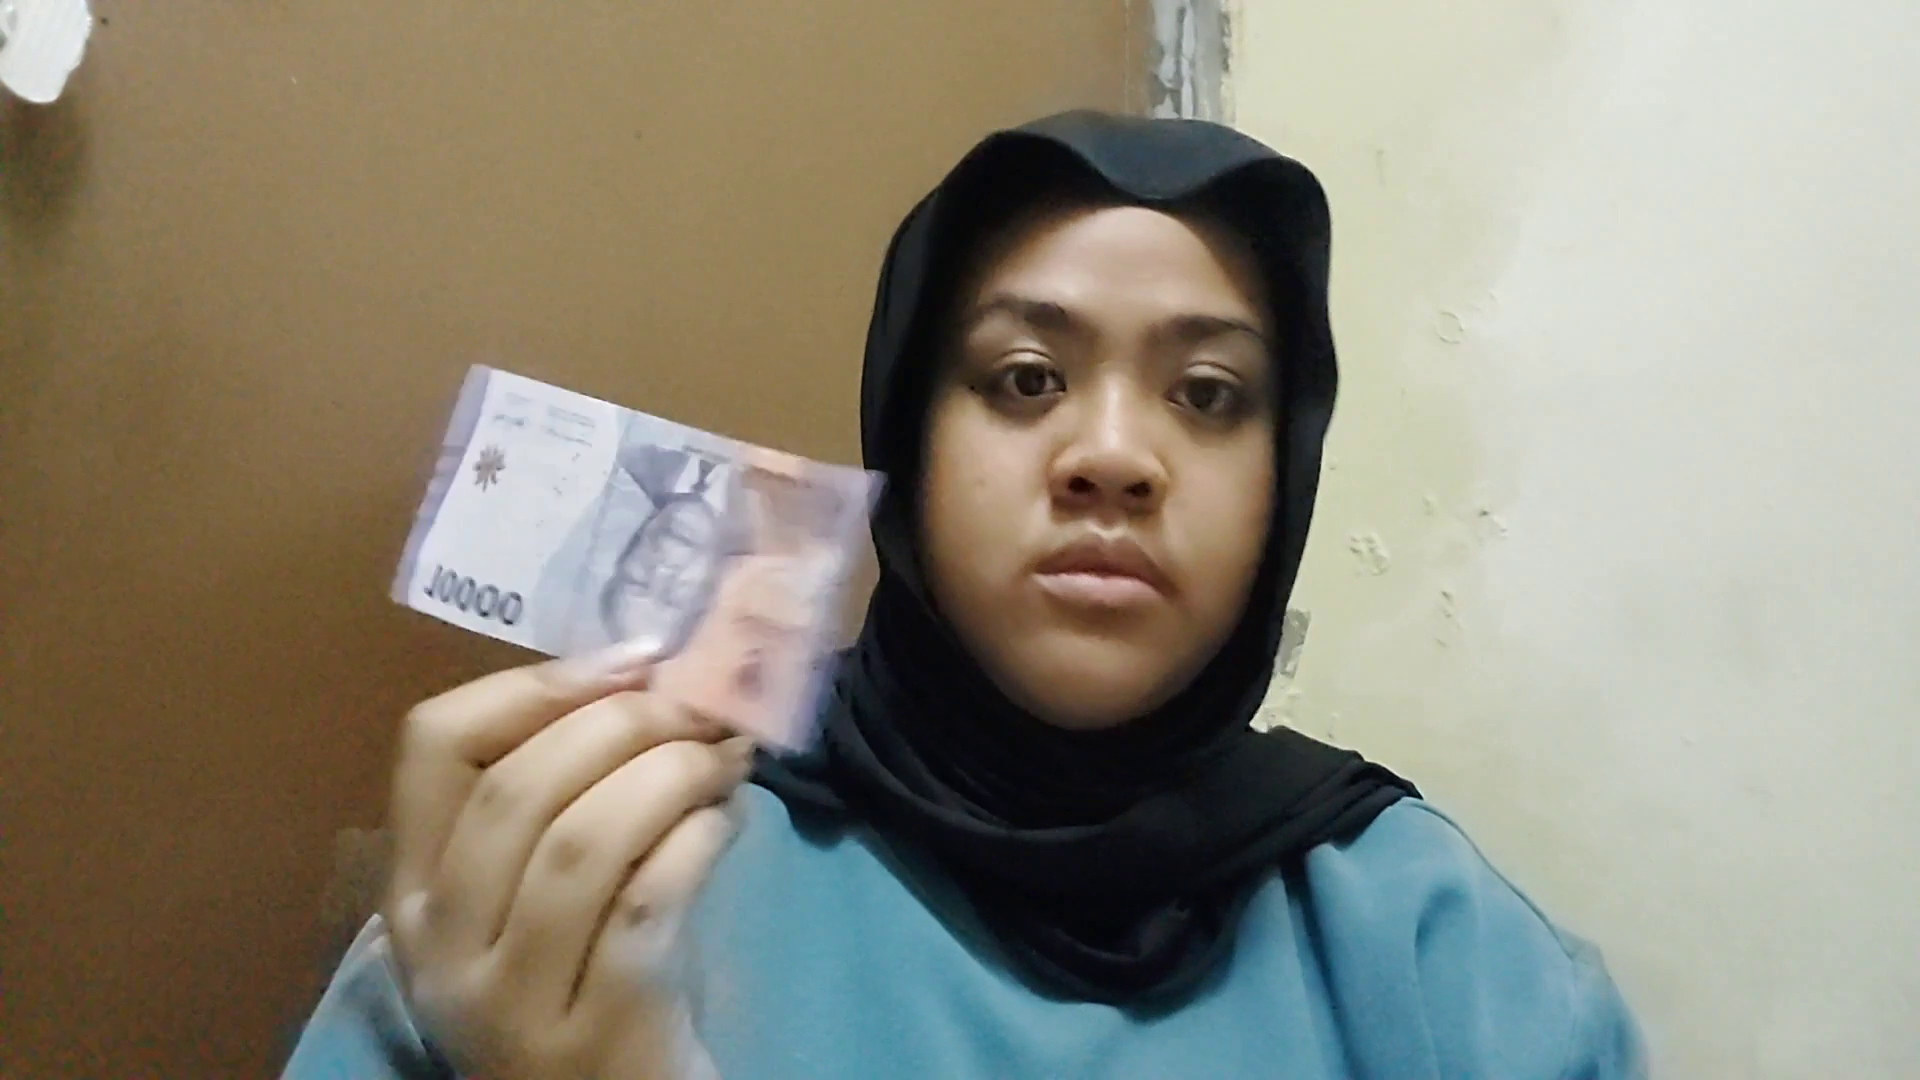10k: (448, 356, 952, 620)
